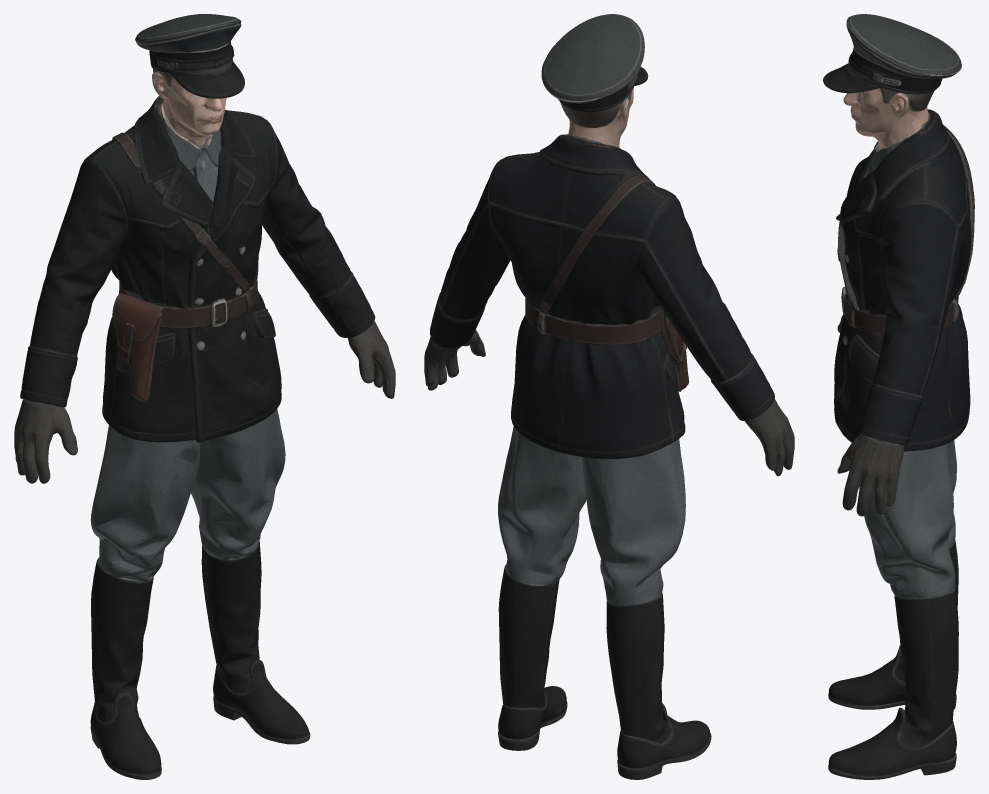
The model's file is regime_officer.glb.
3 views of the same model, side by side, from view 1: azimuth 30°, elevation 25°; view 2: azimuth 150°, elevation 25°; view 3: azimuth 270°, elevation 25° (orthographic). The views are drawn at different scales.
Bounding box in the file's own units: 1 × 1.9 × 0.3652.
1 material, 1 textured.
